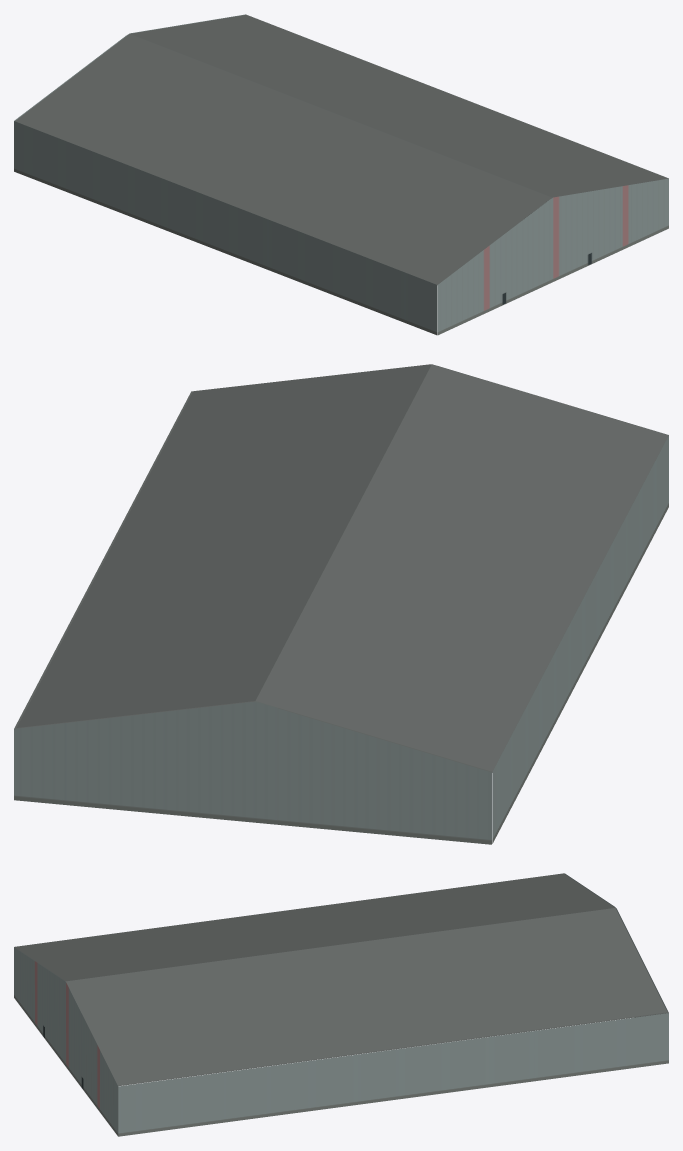
3 views of the same model, one above another, from view 1: azimuth 30°, elevation 25°; view 2: azimuth 150°, elevation 25°; view 3: azimuth 270°, elevation 25° (orthographic). The views are drawn at different scales.
Visible parts, largest first — view 1: 0363100012067126; view 2: 0363100012067126; view 3: 0363100012067126.
Part boxes in pixels (x1,y1,x2,y2): 0363100012067126: (14, 14, 668, 335); 0363100012067126: (14, 364, 668, 844); 0363100012067126: (14, 873, 668, 1136).
Bounding box in the file's own units: 87.02 × 16.32 × 113.
Materials: 2 (1 with a texture image).
